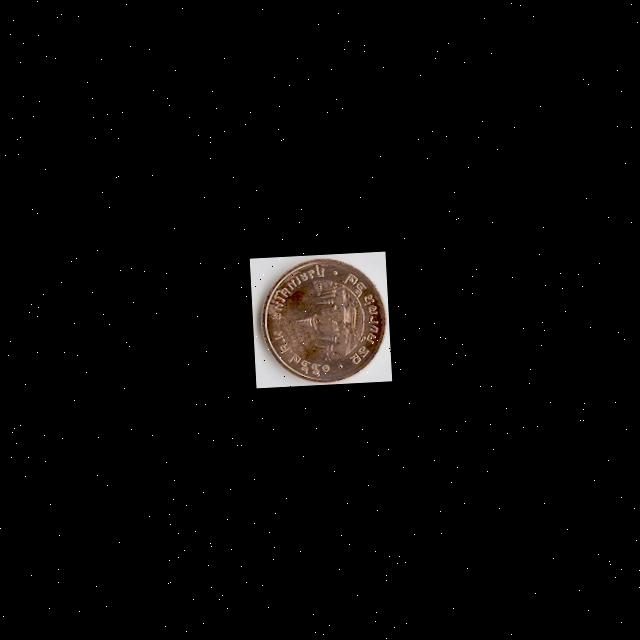25-satang: (248, 252, 392, 388)
